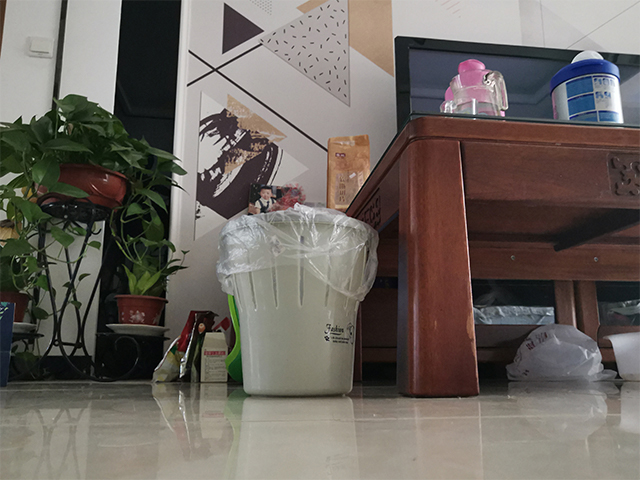table: (343, 110, 640, 401)
trashcan: (217, 206, 381, 398)
